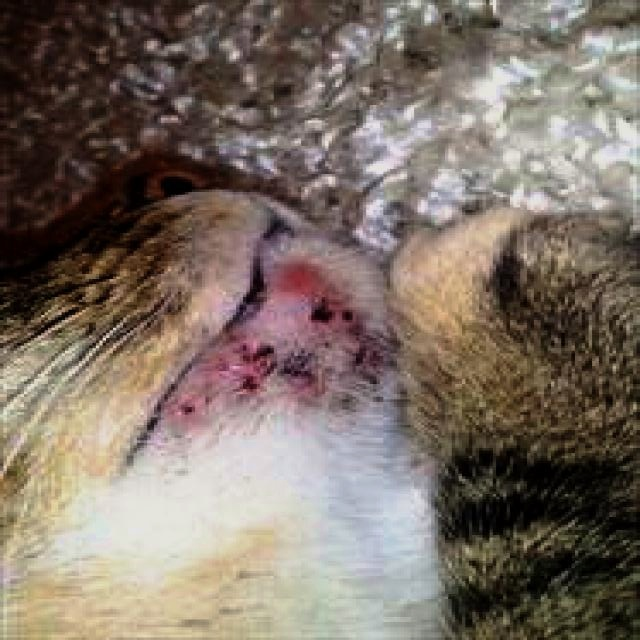acne: (167, 295, 391, 430)
